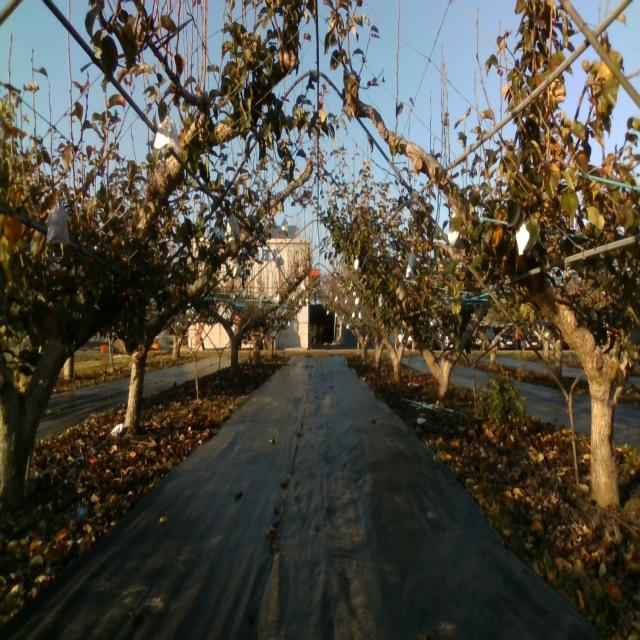pearbags: (45, 198, 70, 245), (154, 117, 181, 155), (513, 220, 531, 258), (226, 213, 240, 236), (448, 226, 459, 248), (278, 217, 290, 237)
